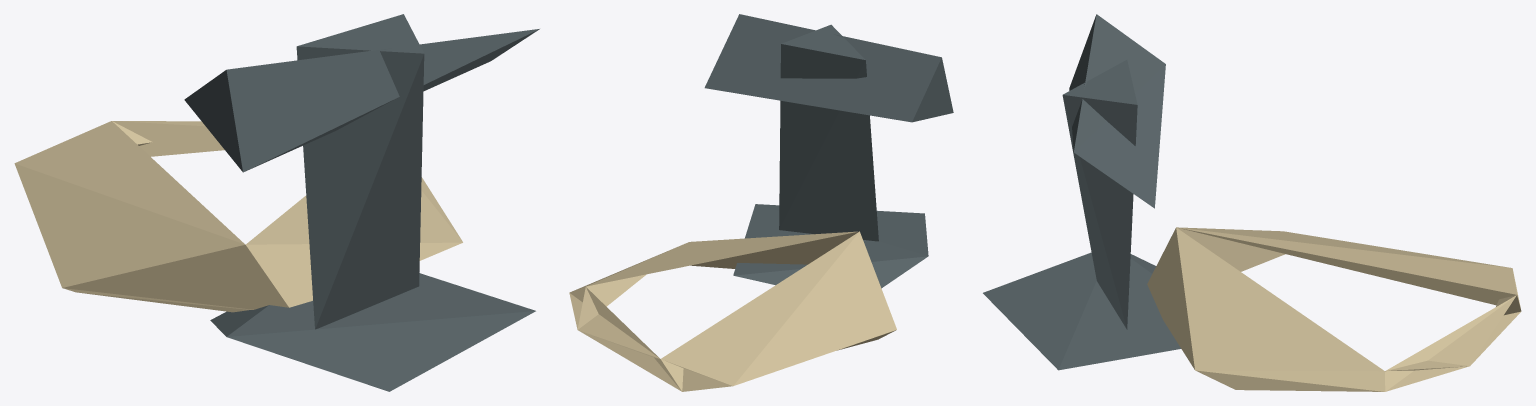
Rendered from harbor.mooring.lod2.glb.
The picture shows the model from 3 angles, left to right: view 1: azimuth 30°, elevation 25°; view 2: azimuth 150°, elevation 25°; view 3: azimuth 270°, elevation 25°; orthographic projection. The views are drawn at different scales.
Visible parts, largest first — view 1: Ring, Stem, Crossbar, Base; view 2: Ring, Stem, Crossbar, Base; view 3: Ring, Base, Crossbar, Stem.
Part boxes in pixels (x1,y1,x2,y2): Ring: (14,121,462,312); Stem: (296,14,424,329); Crossbar: (184,29,539,172); Base: (210,273,535,391); Ring: (569,231,896,391); Stem: (779,24,878,241); Crossbar: (704,14,953,122); Base: (733,204,928,288); Ring: (1147,227,1521,391); Base: (983,252,1180,370); Crossbar: (1069,14,1165,208); Stem: (1062,59,1137,329).
Bounding box in the file's own units: 0.8556 × 0.6356 × 1.21.
